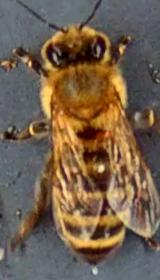varroa_mite: (86, 121, 114, 146)
